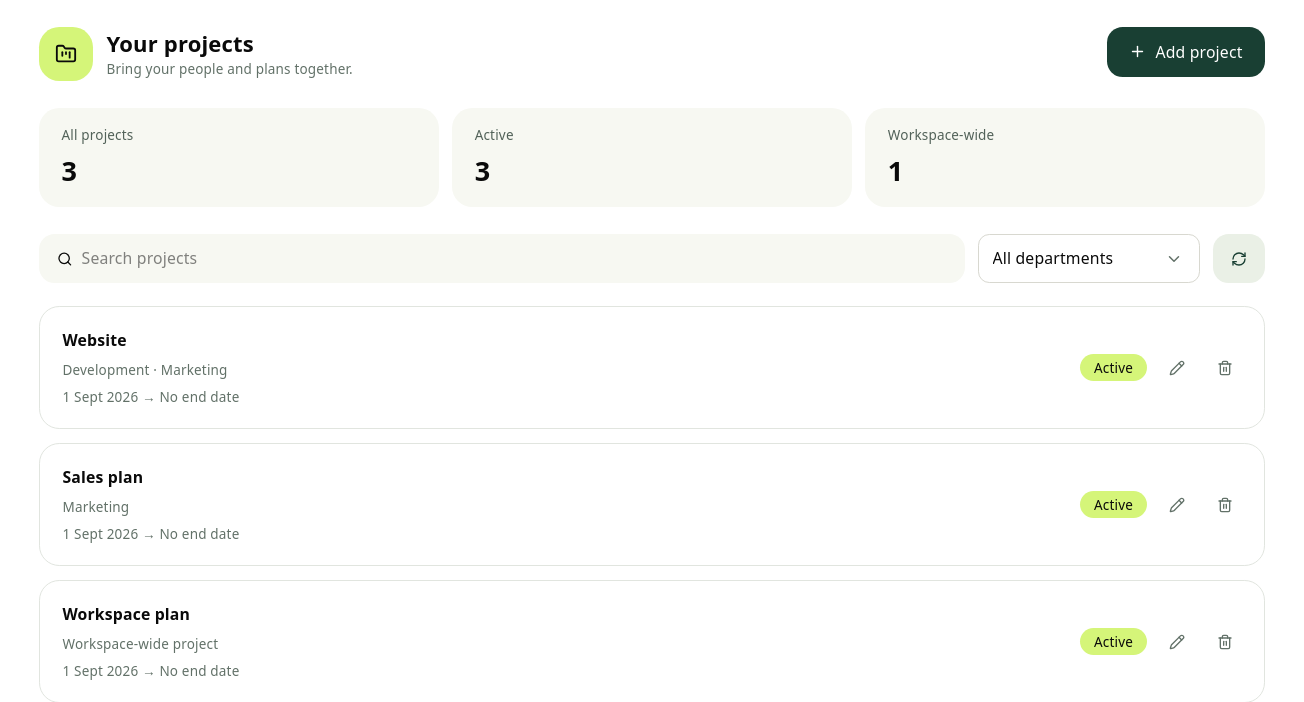
Test case: includes workspace-wide projects in department filters and supports filtering them separately
This screenshot has width=1304, height=702.
Check: the button named "Edit Workspace plan" is shown, box 1160,625 -> 1194,659
Select "Development" in the dropdown named "Filter projects by department" at (1089, 259), box 978,234 -> 1200,284
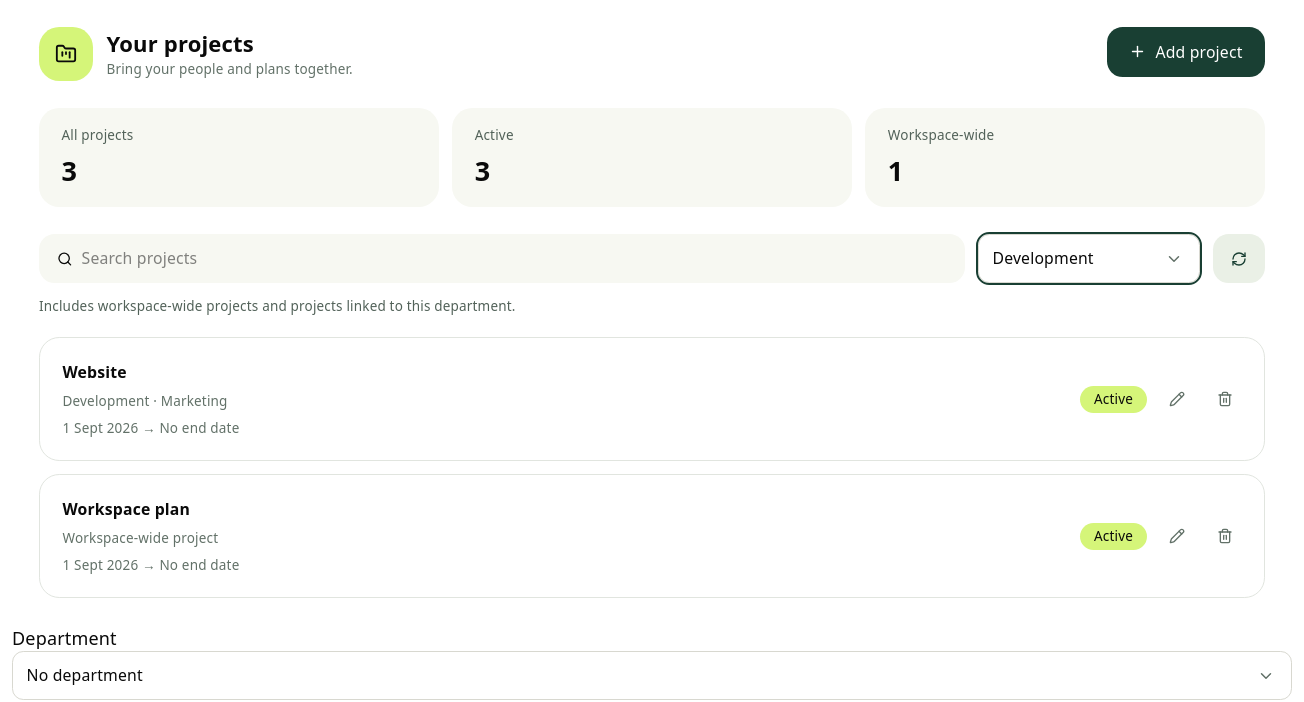
Check: the text "Website" is shown, box 62,361 -> 127,383
Check: the text "Sales plan" is gone
Select "Workspace-wide only" in the dropdown named "Filter projects by department" at (1089, 259), box 978,234 -> 1200,284
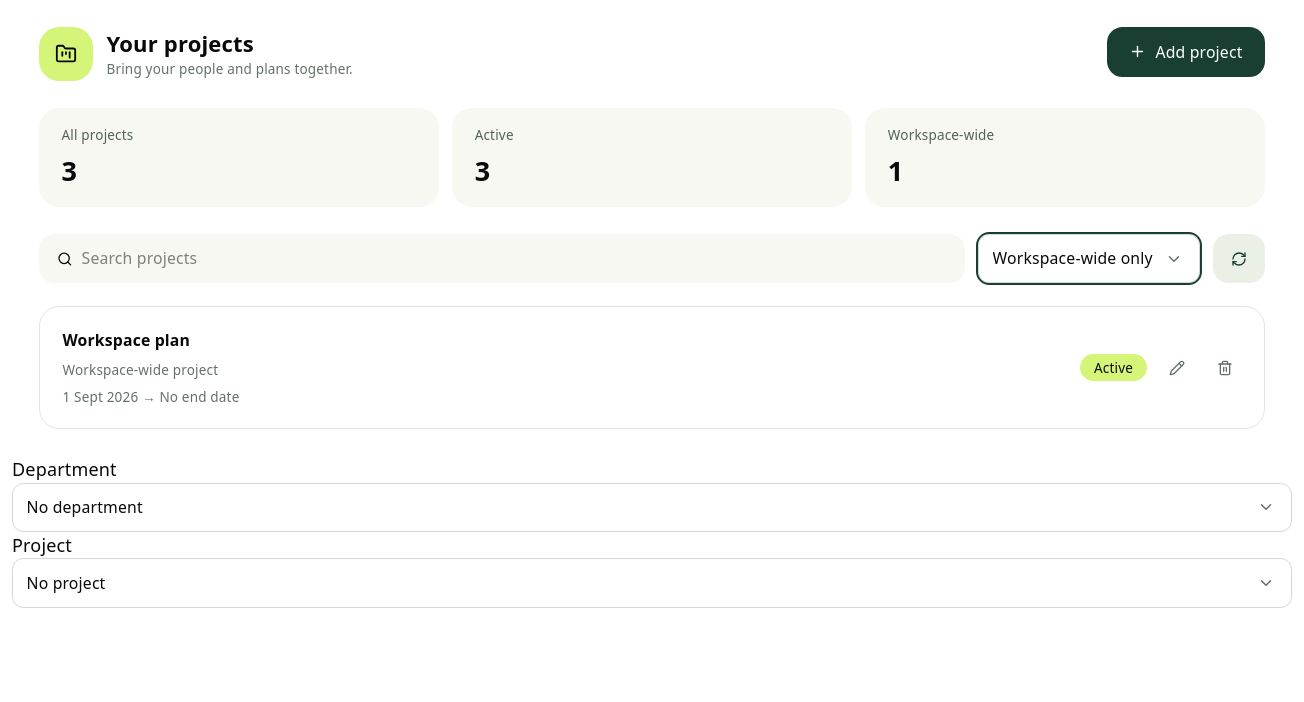
Check: the text "Workspace plan" is shown, box 62,330 -> 190,352
Check: the text "Website" is gone
